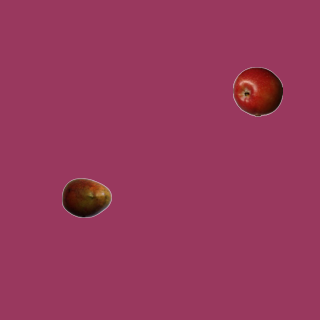Apple Braeburn: (232, 66, 282, 116)
Mango Red: (61, 172, 111, 222)
